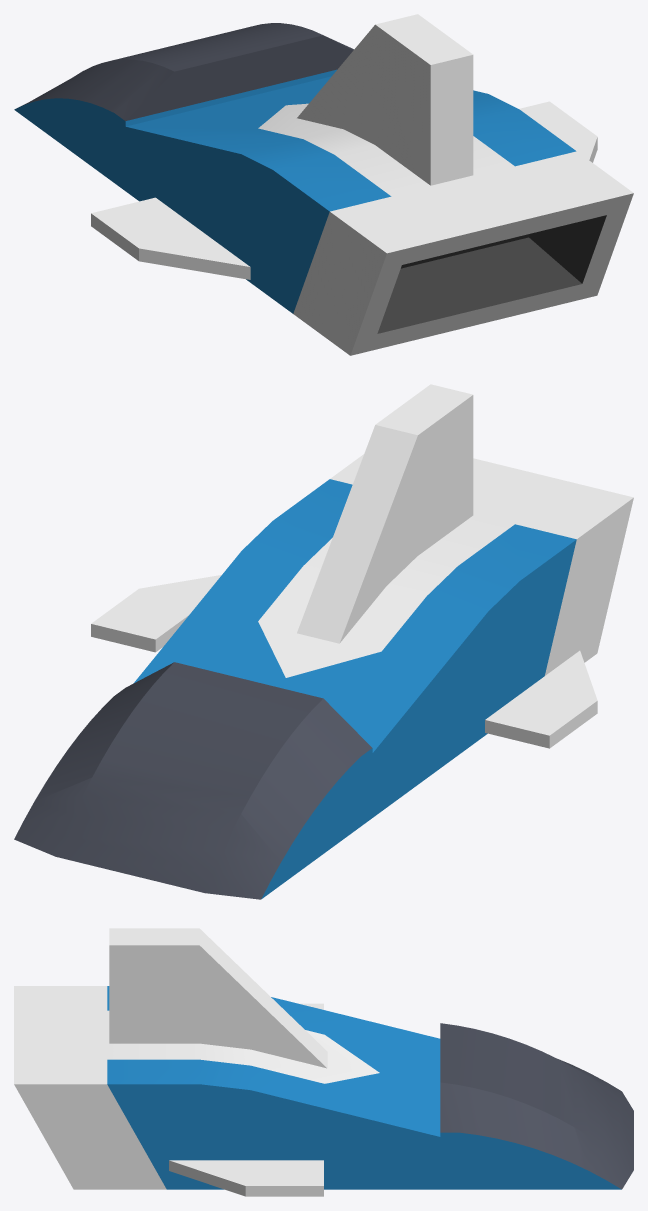
The model's file is Enemy Ship - Kamikaze.fbx.
3 views of the same model, one above another, from view 1: azimuth 30°, elevation 25°; view 2: azimuth 150°, elevation 25°; view 3: azimuth 270°, elevation 25° (orthographic). The views are drawn at different scales.
Visible parts, largest first — view 1: engine_intakeArrow_6, glass_round_7, plane_rudder_4, plane_elevator_12, plane_elevator_13; view 2: engine_intakeArrow_6, glass_round_7, plane_rudder_4, plane_elevator_12, plane_elevator_13; view 3: engine_intakeArrow_6, glass_round_7, plane_rudder_4, plane_elevator_13.
Part boxes in pixels (x1,y1,x2,y2): engine_intakeArrow_6: (125, 76, 633, 355); glass_round_7: (14, 23, 353, 190); plane_rudder_4: (297, 14, 473, 185); plane_elevator_12: (91, 197, 250, 279); plane_elevator_13: (519, 101, 597, 162); engine_intakeArrow_6: (133, 454, 633, 817); glass_round_7: (14, 662, 372, 899); plane_rudder_4: (297, 384, 473, 643); plane_elevator_12: (485, 650, 597, 748); plane_elevator_13: (91, 575, 221, 652); engine_intakeArrow_6: (14, 986, 440, 1189); glass_round_7: (440, 1023, 633, 1189); plane_rudder_4: (109, 928, 327, 1068); plane_elevator_13: (169, 1160, 323, 1196).
Bounding box in the file's own units: 11.14 × 5.8 × 16.
